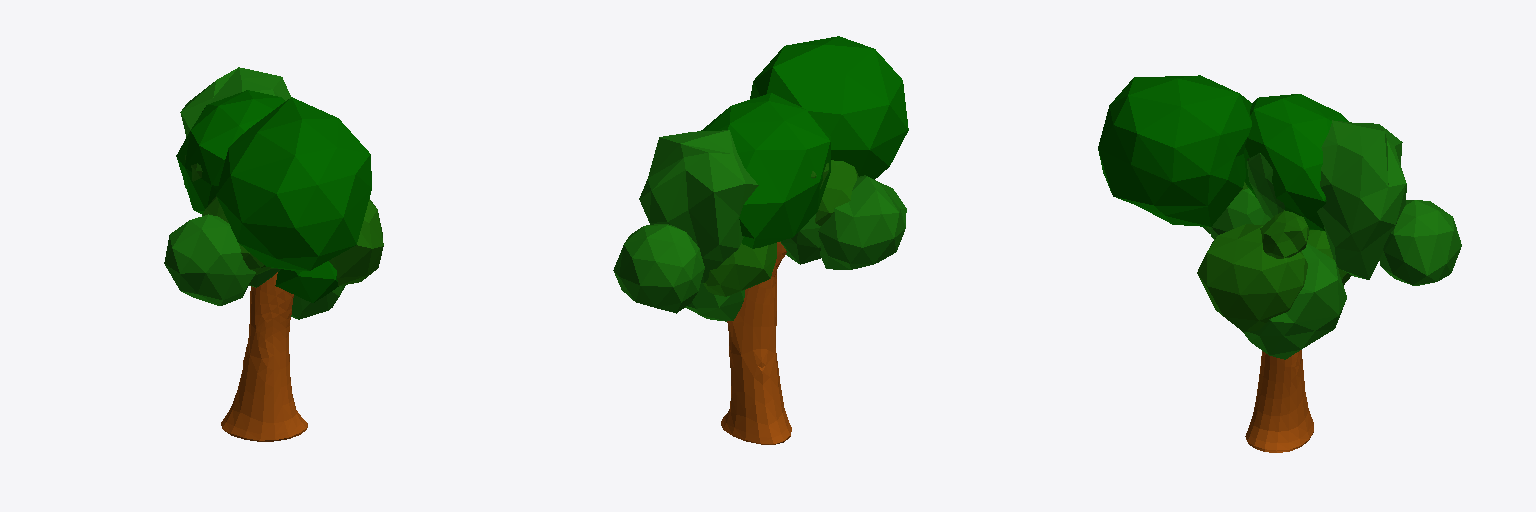
The model's file is treesmooth.obj.
3 views of the same model, side by side, from view 1: azimuth 30°, elevation 25°; view 2: azimuth 150°, elevation 25°; view 3: azimuth 270°, elevation 25° (orthographic).
Parts seen in each view (by area): view 1: Leaves_1_Icosphere, Tree_2_Mesh, Leaves_1.002_Icosphere.008, Leaves_2_Icosphere.001, Leaves_4.001_Icosphere.011, Leaves_3.001_Icosphere.005, Leaves_3_Icosphere.002, Leaves_3.002_Icosphere.010, Leaves_1.001_Icosphere.003; view 2: Leaves_1_Icosphere, Leaves_2_Icosphere.001, Leaves_4.001_Icosphere.011, Tree_2_Mesh, Leaves_6_Icosphere.013, Leaves_1.002_Icosphere.008, Leaves_4_Icosphere.007, Leaves_1.001_Icosphere.003, Leaves_3.002_Icosphere.010, Leaves_2.002_Icosphere.009; view 3: Leaves_1_Icosphere, Leaves_4.001_Icosphere.011, Leaves_2_Icosphere.001, Leaves_3.001_Icosphere.005, Leaves_3.002_Icosphere.010, Leaves_6_Icosphere.013, Tree_2_Mesh, Leaves_5_Icosphere.006, Leaves_2.002_Icosphere.009, Leaves_5.001_Icosphere.012, Leaves_4_Icosphere.007.
Boxes of the visible parts, x1,y1,x2,y2 form: Leaves_1_Icosphere: [216, 97, 371, 271]; Tree_2_Mesh: [221, 272, 307, 441]; Leaves_1.002_Icosphere.008: [164, 214, 255, 305]; Leaves_2_Icosphere.001: [176, 90, 285, 214]; Leaves_4.001_Icosphere.011: [180, 67, 290, 136]; Leaves_3.001_Icosphere.005: [329, 199, 383, 285]; Leaves_3_Icosphere.002: [275, 261, 338, 302]; Leaves_3.002_Icosphere.010: [291, 285, 345, 319]; Leaves_1.001_Icosphere.003: [202, 196, 272, 274]; Leaves_1_Icosphere: [750, 36, 908, 179]; Leaves_2_Icosphere.001: [701, 93, 830, 248]; Leaves_4.001_Icosphere.011: [639, 130, 758, 282]; Tree_2_Mesh: [721, 242, 791, 444]; Leaves_6_Icosphere.013: [613, 224, 704, 313]; Leaves_1.002_Icosphere.008: [818, 175, 906, 269]; Leaves_4_Icosphere.007: [703, 243, 776, 296]; Leaves_1.001_Icosphere.003: [815, 160, 858, 225]; Leaves_3.002_Icosphere.010: [685, 283, 744, 321]; Leaves_2.002_Icosphere.009: [780, 214, 820, 264]; Leaves_1_Icosphere: [1098, 75, 1251, 226]; Leaves_4.001_Icosphere.011: [1317, 120, 1406, 279]; Leaves_2_Icosphere.001: [1244, 94, 1348, 230]; Leaves_3.001_Icosphere.005: [1197, 224, 1307, 331]; Leaves_3.002_Icosphere.010: [1243, 243, 1346, 359]; Leaves_6_Icosphere.013: [1379, 200, 1461, 285]; Tree_2_Mesh: [1245, 350, 1313, 452]; Leaves_5_Icosphere.006: [1260, 210, 1309, 258]; Leaves_2.002_Icosphere.009: [1209, 188, 1270, 239]; Leaves_5.001_Icosphere.012: [1247, 153, 1285, 218]; Leaves_4_Icosphere.007: [1307, 230, 1351, 285].
Bounding box in the file's own units: 7.97 × 12.24 × 11.53.